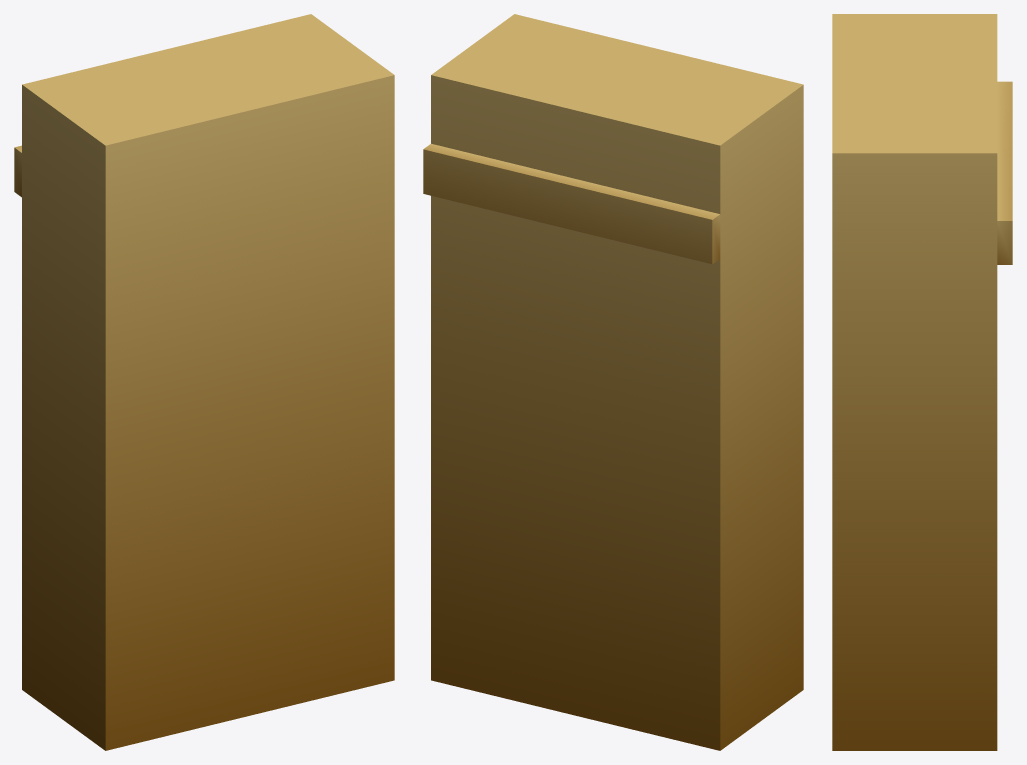
The model's file is Enviroment__Wall_001.fbx.
3 views of the same model, side by side, from view 1: azimuth 30°, elevation 25°; view 2: azimuth 150°, elevation 25°; view 3: azimuth 270°, elevation 25° (orthographic).
Visible parts, largest first — view 1: Cube; view 2: Cube; view 3: Cube.
Boxes of the visible parts, x1=… form: Cube: x1=14, y1=14, x2=394, y2=750; Cube: x1=423, y1=14, x2=803, y2=750; Cube: x1=832, y1=14, x2=1012, y2=750.
Bounding box in the file's own units: 20 × 40 × 10.93.
